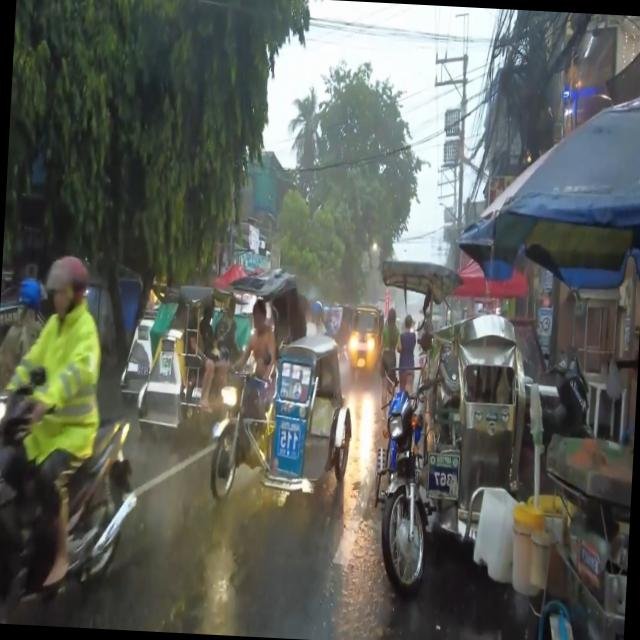half: (45, 252, 92, 322)
